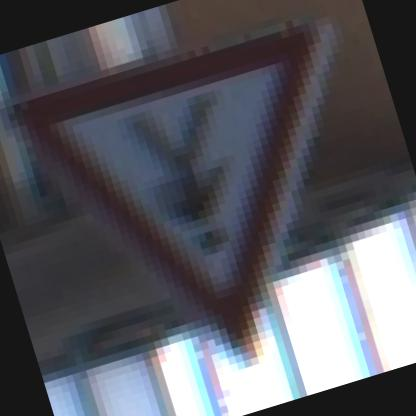crosswalk: (0, 0, 414, 413)
